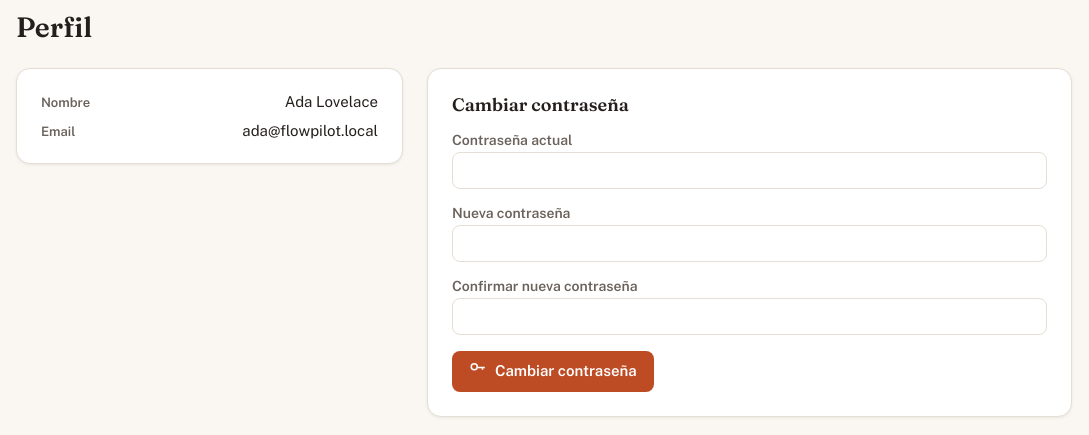
Test: ProfileComponent › disables the submit button while the request is in flight
The width and height of the screenshot is (1089, 435).
Type "oldSecret1" into the password field with test id "profile-current-password" at (750, 170), box 452,152 -> 1047,189
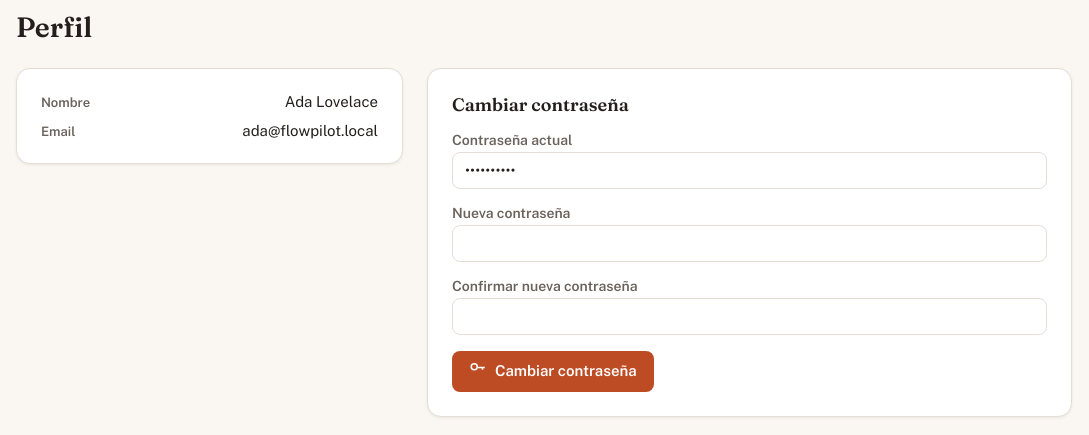
Type "newSecret1" into the password field with test id "profile-new-password" at (750, 244), box 452,225 -> 1047,262
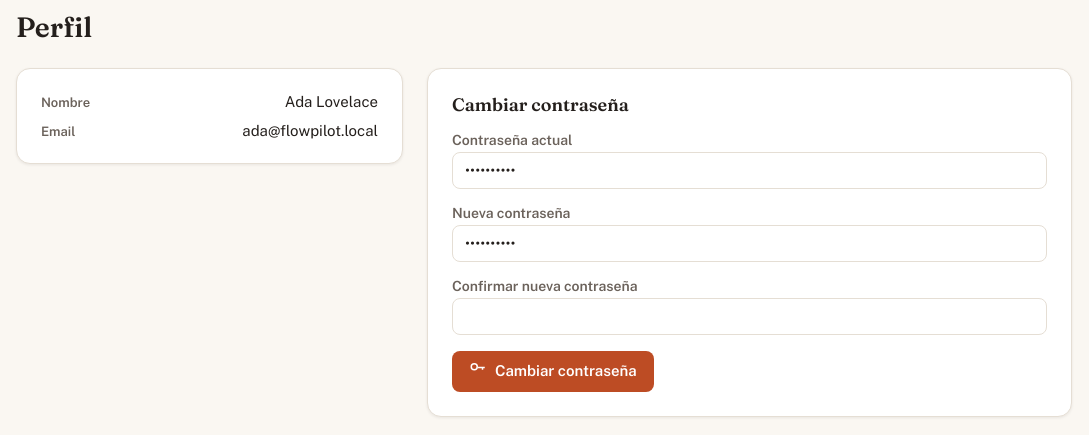
Type "newSecret1" into the password field with test id "profile-confirm-password" at (750, 316), box 452,298 -> 1047,335
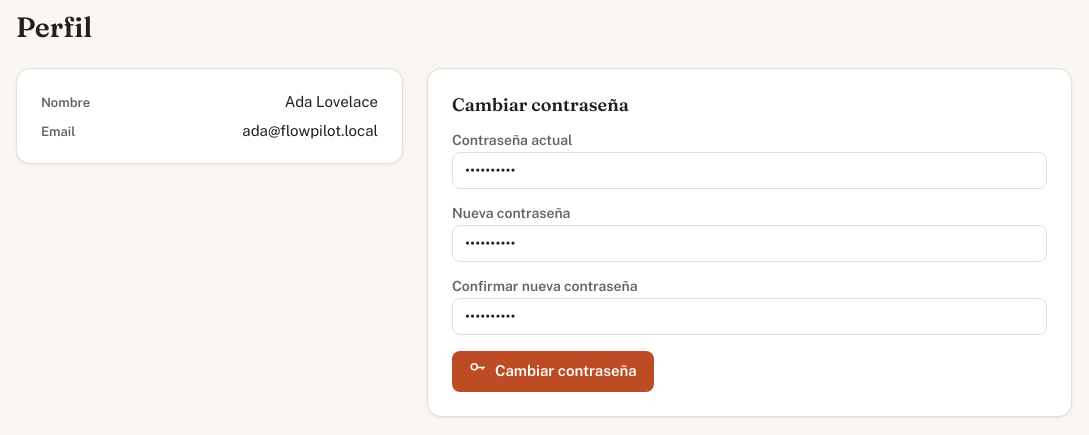
Submit the form, box 452,93 -> 1047,392
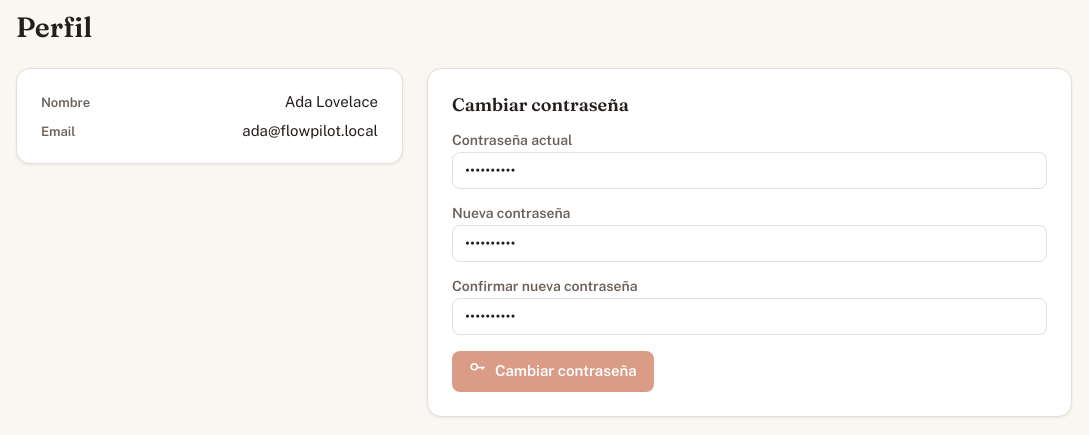
Check: the button with test id "profile-password-submit" is disabled, box 452,351 -> 654,392
